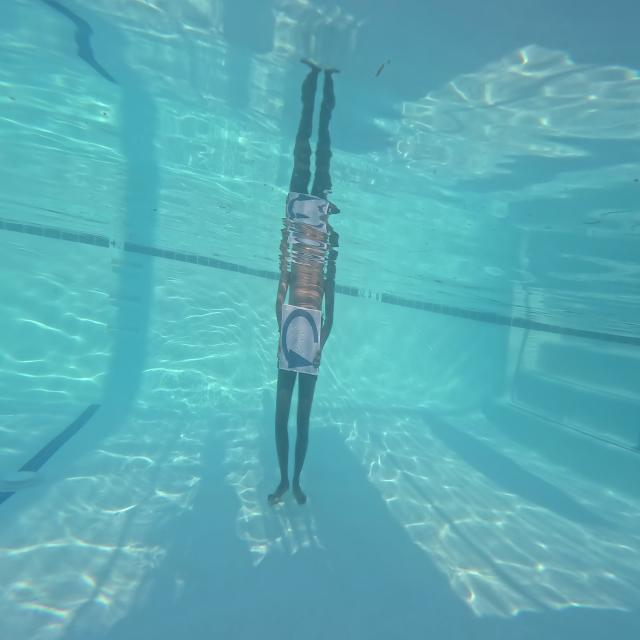blue_side: (279, 303, 321, 377)
